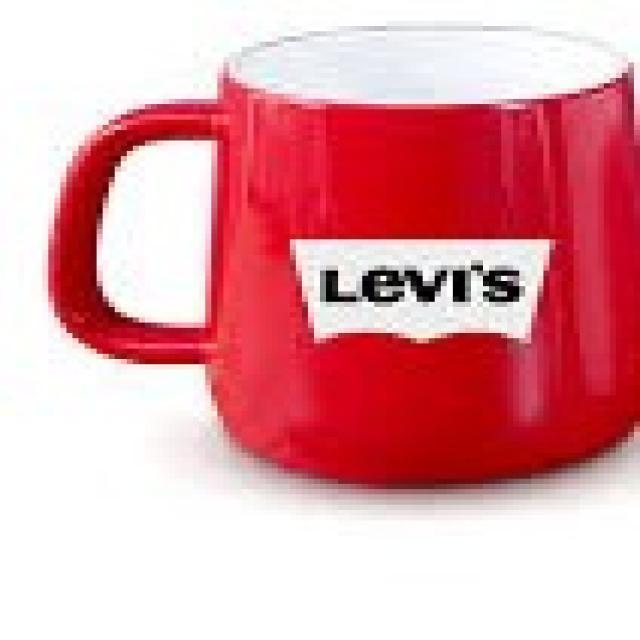taza: (38, 12, 640, 498)
